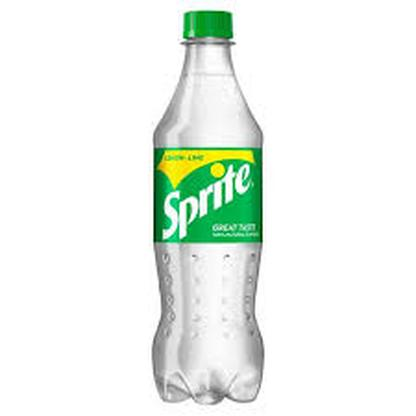plastic bottle: (151, 9, 264, 406)
